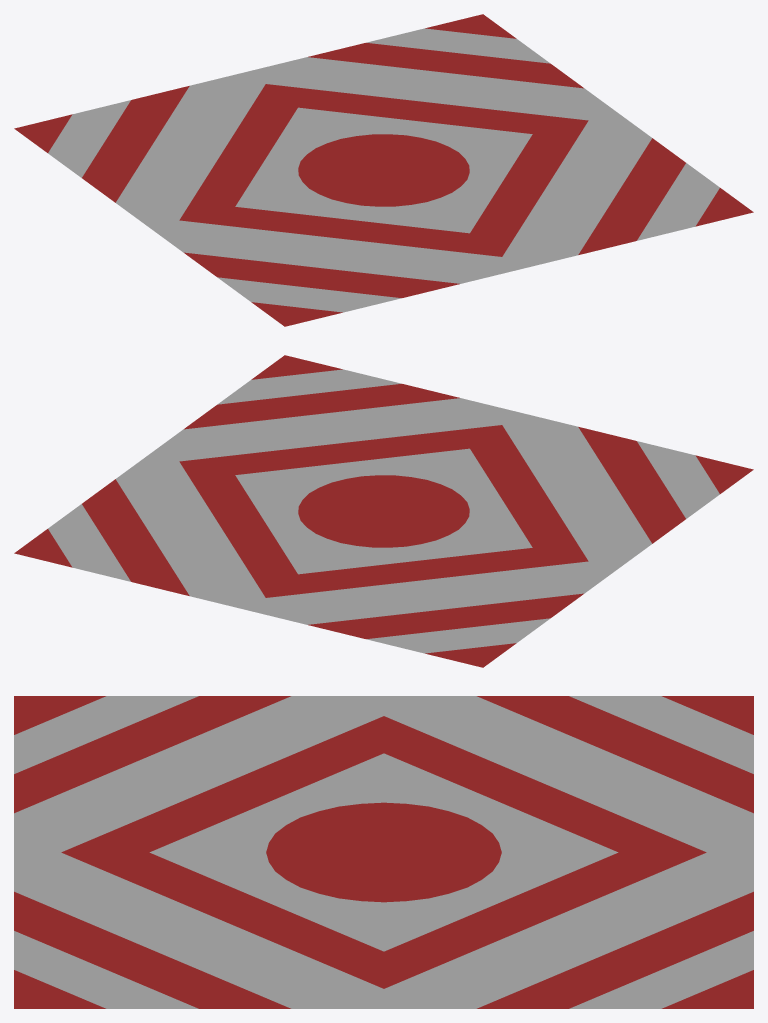
File: Ground-01.fbx
3 renders of one model, top to bottom at view 1: azimuth 30°, elevation 25°; view 2: azimuth 150°, elevation 25°; view 3: azimuth 270°, elevation 25°, orthographic. The views are drawn at different scales.
Parts seen in each view (by area): view 1: pPlane1; view 2: pPlane1; view 3: pPlane1.
Boxes of the visible parts, x1=… form: pPlane1: x1=14, y1=14, x2=753, y2=326; pPlane1: x1=14, y1=355, x2=753, y2=667; pPlane1: x1=14, y1=696, x2=753, y2=1008.
Bounding box in the file's own units: 1000 × 2.22e-13 × 1000.
